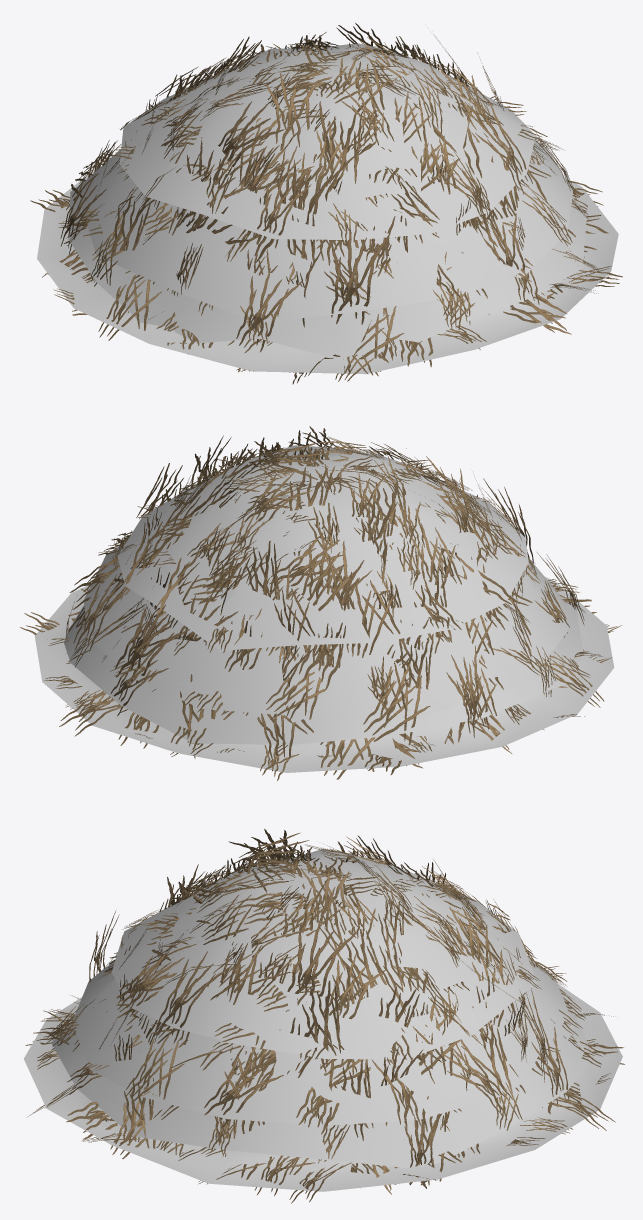
The model's file is hayMound_lod0.fbx.
3 views of the same model, one above another, from view 1: azimuth 30°, elevation 25°; view 2: azimuth 150°, elevation 25°; view 3: azimuth 270°, elevation 25° (orthographic). The views are drawn at different scales.
Visible parts, largest first — view 1: hayMound_lod0; view 2: hayMound_lod0; view 3: hayMound_lod0.
Part boxes in pixels (x1,y1,x2,y2): hayMound_lod0: (30, 23, 622, 384); hayMound_lod0: (20, 426, 621, 780); hayMound_lod0: (24, 829, 624, 1203).
Size of the model in its own units: 3.12 by 1.37 by 2.96.
